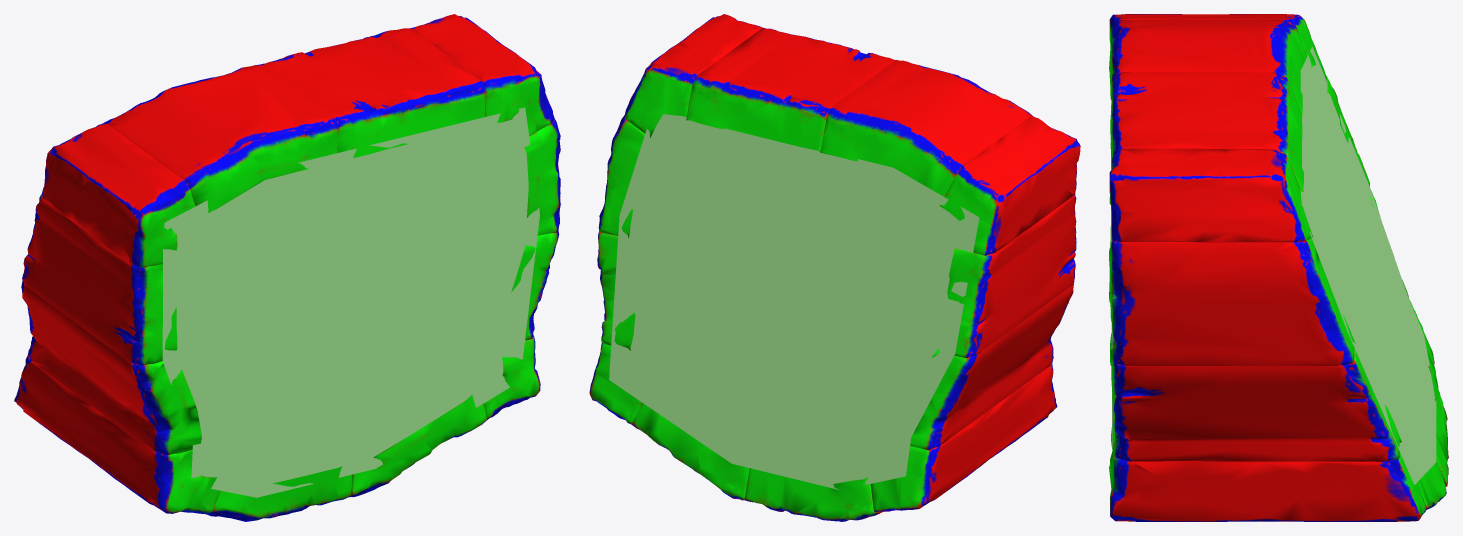
File: SM_tiletest1.FBX
3 renders of one model, left to right at view 1: azimuth 30°, elevation 25°; view 2: azimuth 150°, elevation 25°; view 3: azimuth 270°, elevation 25°, orthographic. The views are drawn at different scales.
Parts seen in each view (by area): view 1: Object001; view 2: Object001; view 3: Object001.
Boxes of the visible parts, x1,y1,x2,y2 form: Object001: (14,14,560,521); Object001: (589,14,1080,521); Object001: (1109,14,1448,521).
Bounding box in the file's own units: 4697 × 4047 × 3022.
